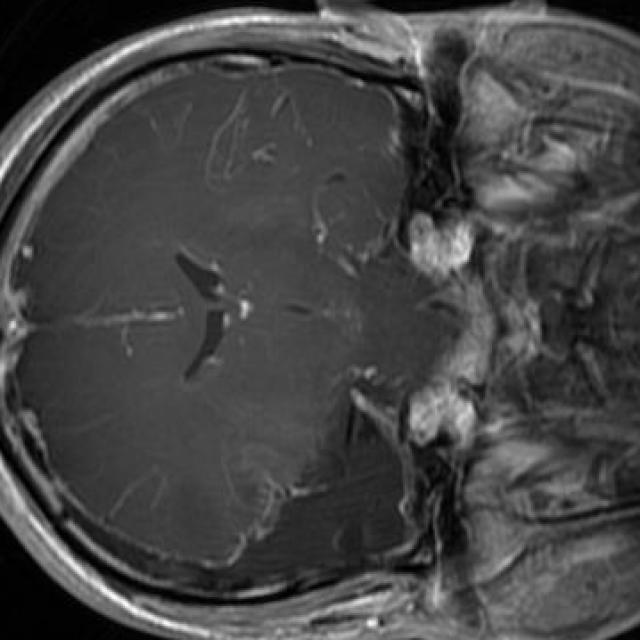glioma: (150, 380, 431, 601)
